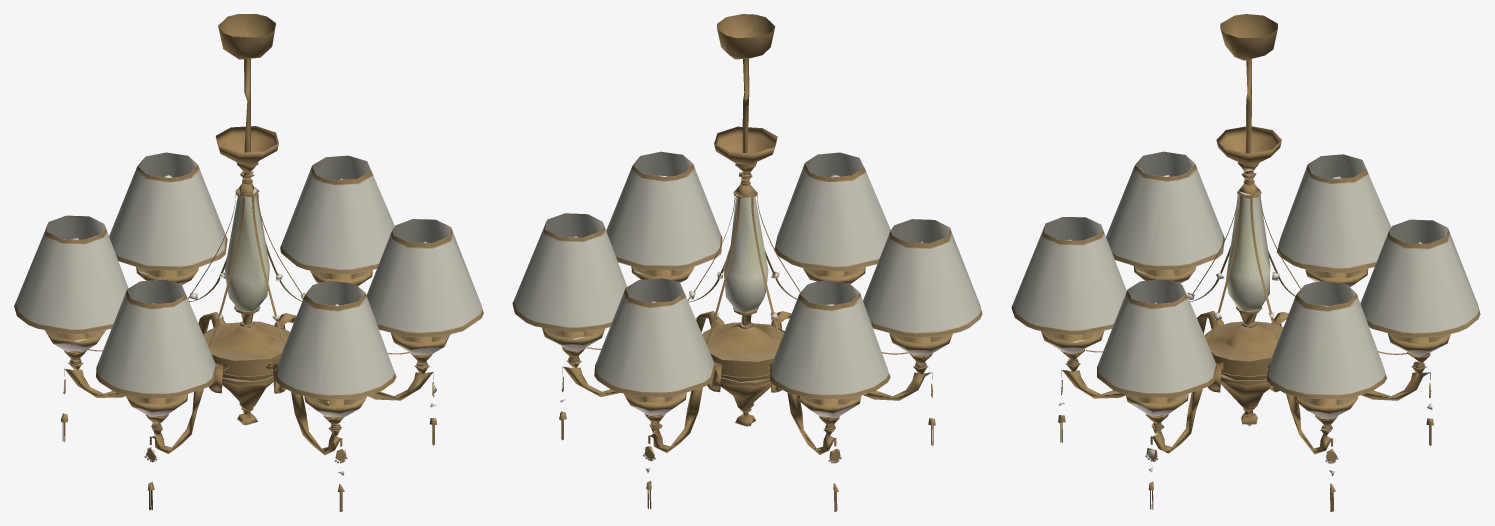
The model's file is Chandelier_01.glb.
3 views of the same model, side by side, from view 1: azimuth 30°, elevation 25°; view 2: azimuth 150°, elevation 25°; view 3: azimuth 270°, elevation 25° (orthographic).
Parts seen in each view (by area): view 1: Chandelier_01; view 2: Chandelier_01; view 3: Chandelier_01.
Part boxes in pixels (x1,y1,x2,y2): Chandelier_01: (14, 14, 483, 511); Chandelier_01: (512, 14, 982, 511); Chandelier_01: (1011, 14, 1480, 511).
Size of the model in its own units: 0.7426 by 0.7982 by 0.8155.
2 materials, 1 textured.
